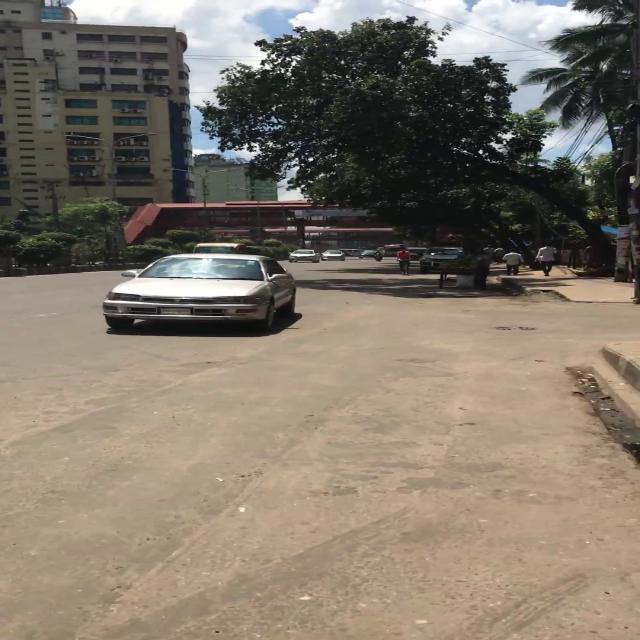silver: (104, 250, 300, 330)
